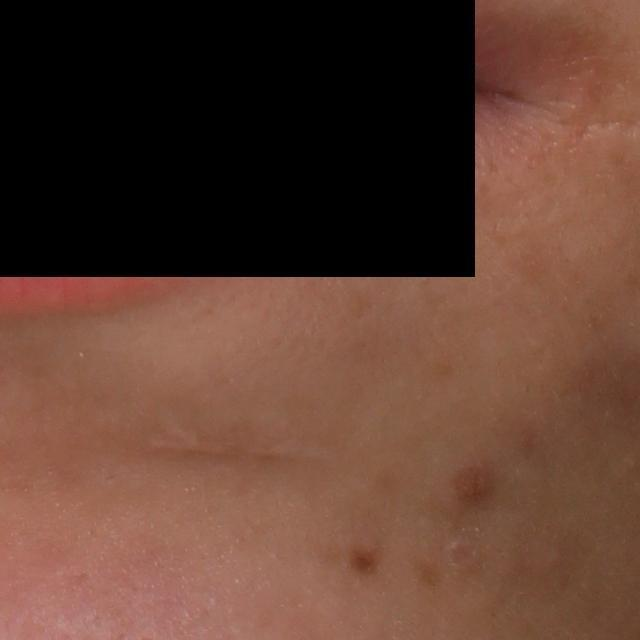nevus: (343, 539, 383, 577)
